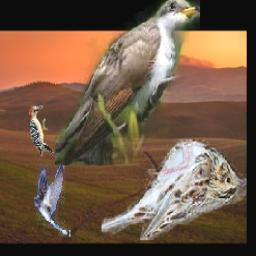Cuckoo: (55, 0, 200, 165)
Sparrow: (102, 140, 247, 241)
Swallow: (33, 161, 69, 239)
Woodpecker: (27, 104, 56, 157)
